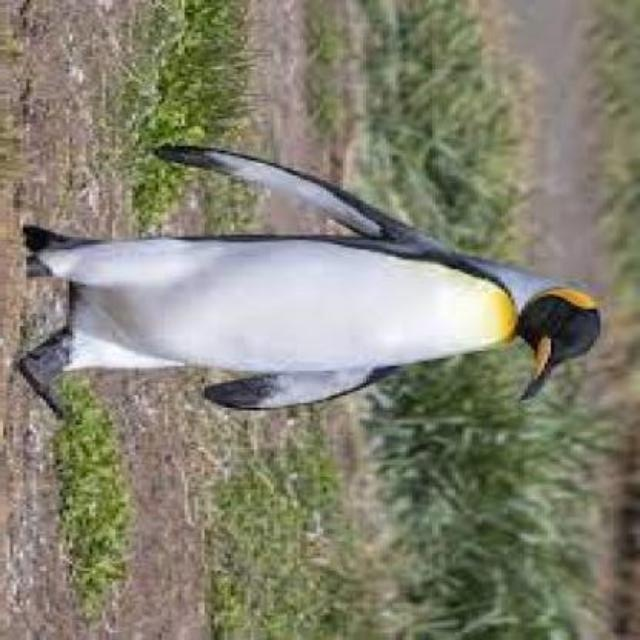penguin: (19, 145, 601, 425)
